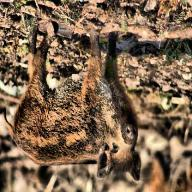boar: (5, 47, 148, 186)
